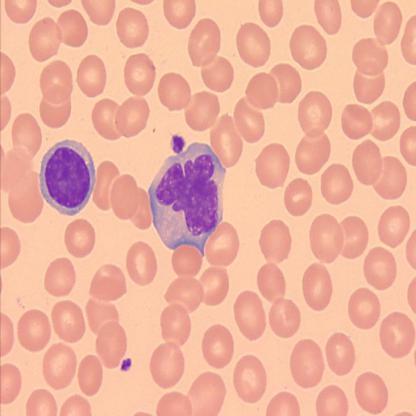Atypical lymphocyte: (149, 135, 227, 256), (40, 140, 96, 216)
